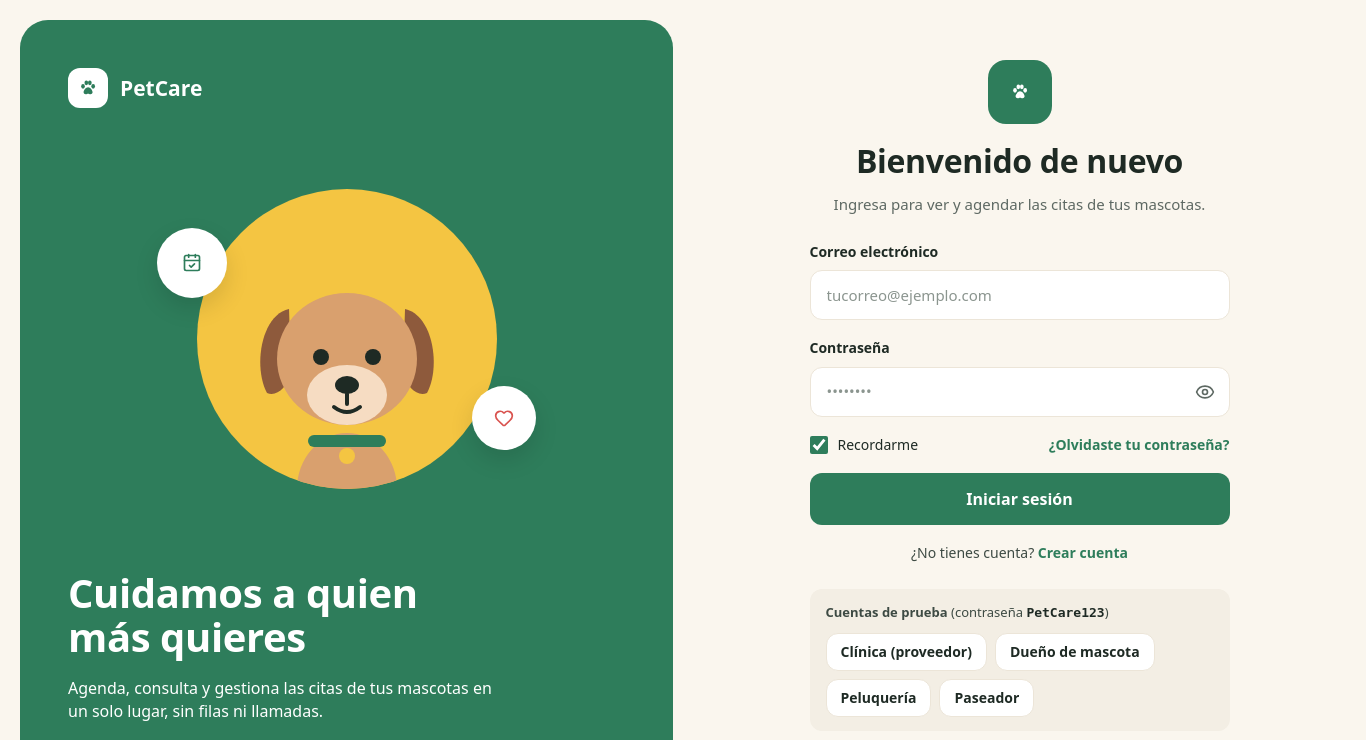
Scenario: Login › muestra el error de credenciales de la API
Type "ana@correo.com" into the field labelled "Correo electrónico". click: (1020, 295)
box: [810,270,1230,320]
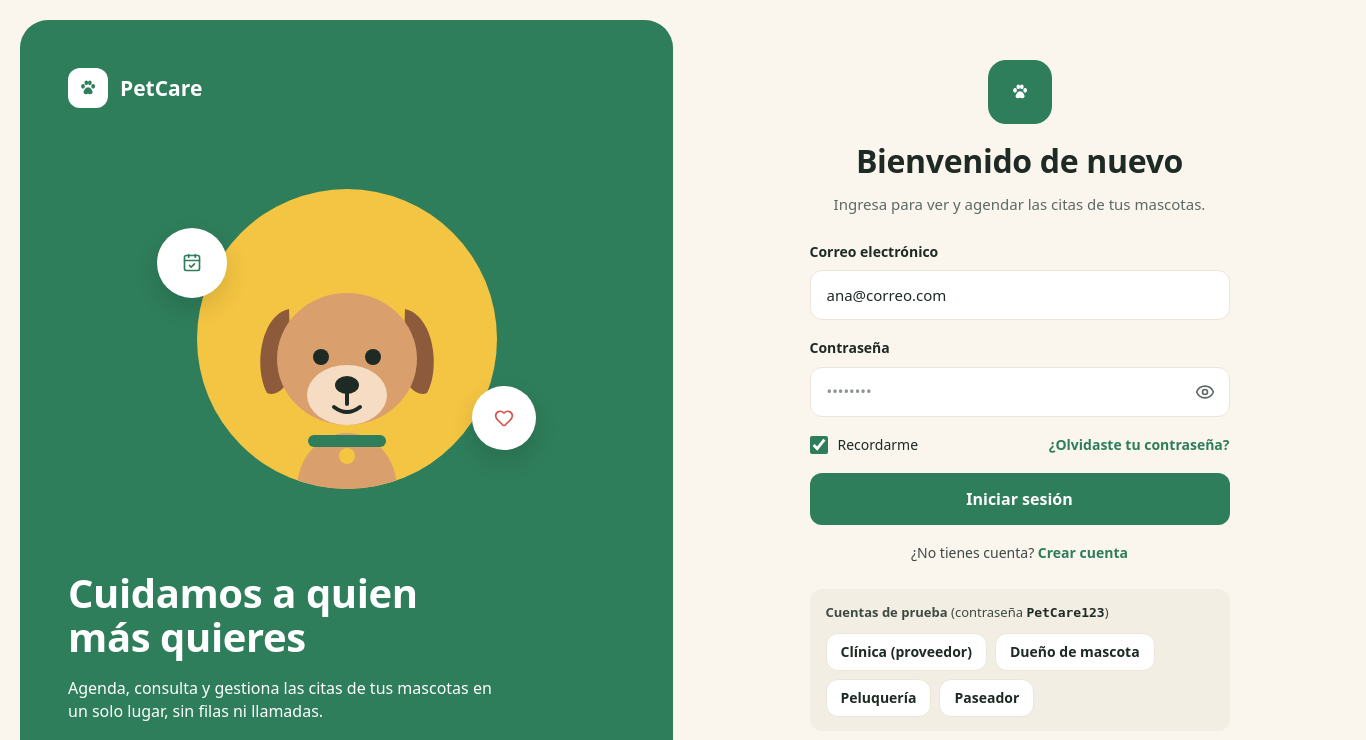
Type "mala1234" into the password field labelled "Contraseña". click: (1020, 392)
box: [810,367,1230,417]
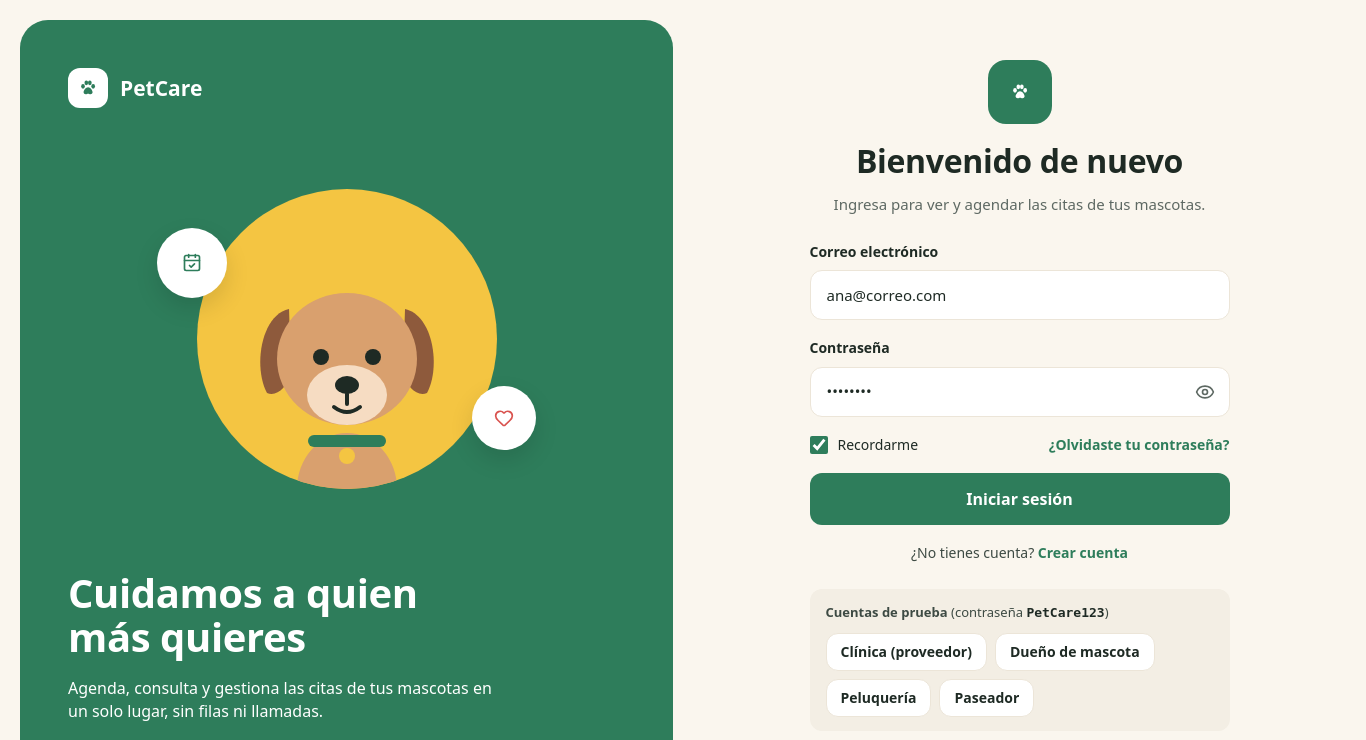
Click the button "Iniciar sesión". click: (1020, 499)
box: [810,473,1230,525]
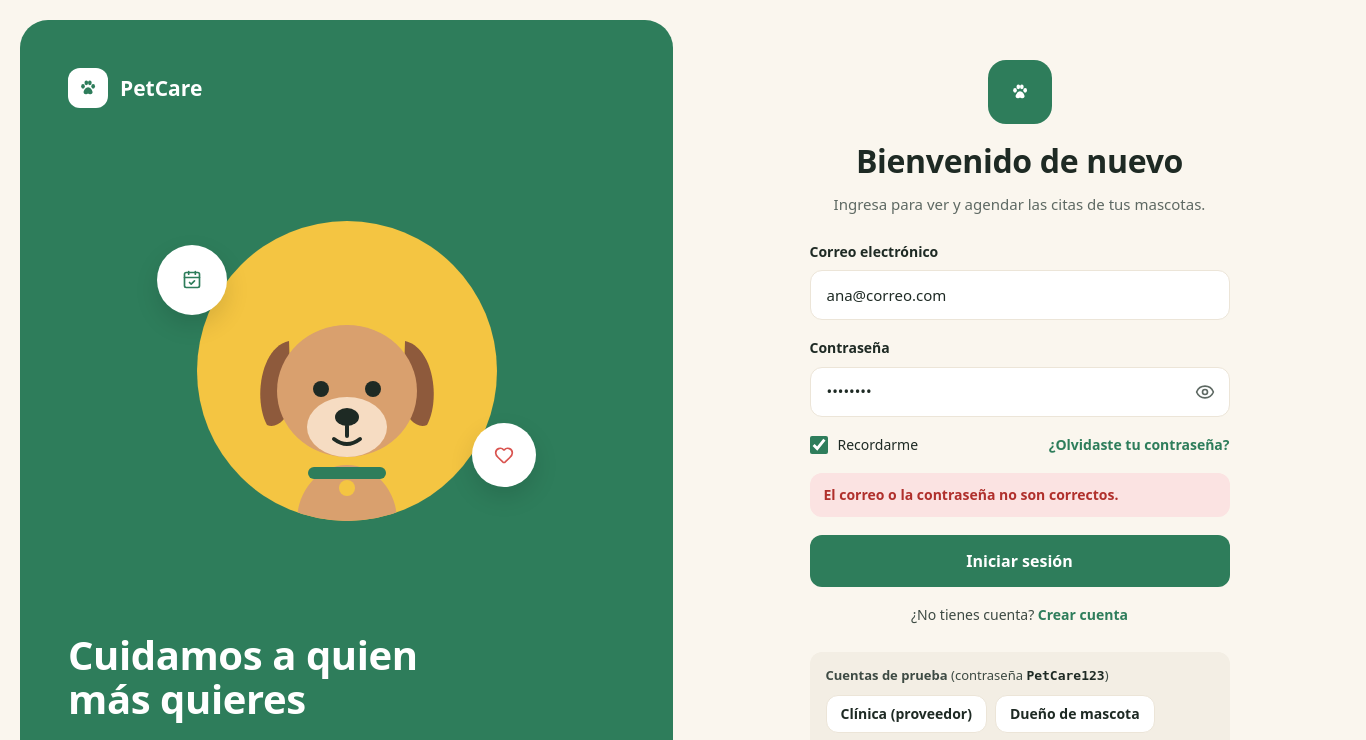
Now the text "El correo o la contraseña no son correctos." is shown, box [810,473,1230,517]
